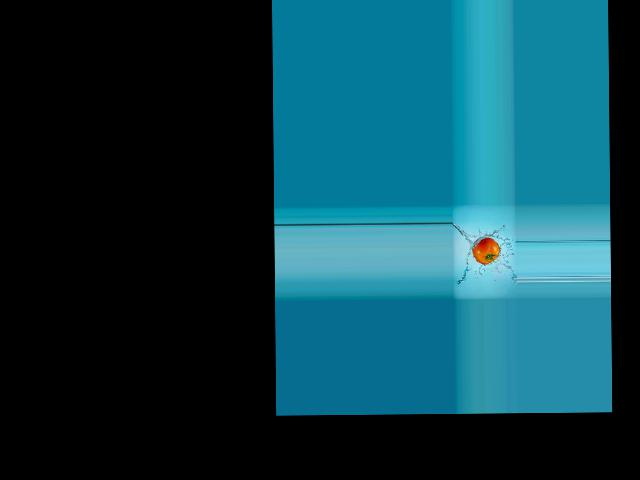tomato: (472, 237, 500, 264)
